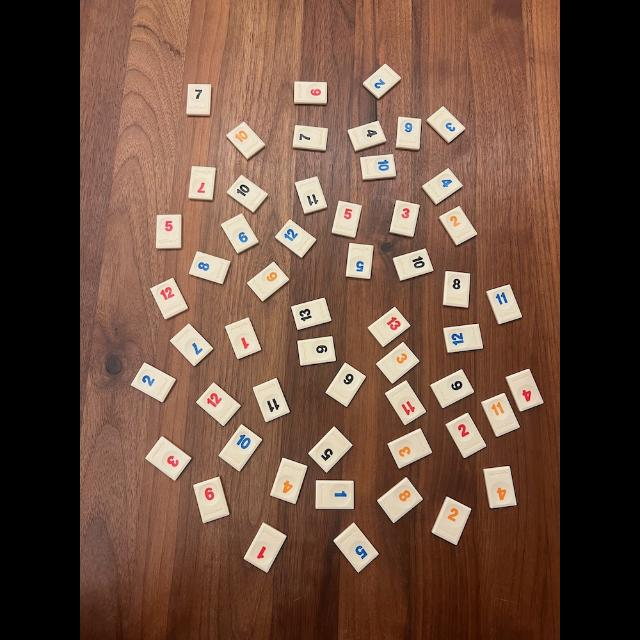black_10: (228, 175, 268, 212), (394, 249, 434, 281)
black_11: (252, 378, 290, 422), (295, 176, 328, 214)
black_13: (291, 298, 331, 330)
black_4: (348, 121, 386, 151)
black_5: (309, 426, 352, 472)
black_6: (298, 336, 336, 366)
black_7: (294, 125, 327, 151), (186, 84, 211, 116)
black_8: (443, 271, 469, 307)
black_9: (326, 362, 366, 406), (430, 369, 474, 408)
blue_1: (316, 481, 354, 509)
blue_10: (219, 424, 262, 471), (361, 154, 396, 180)
blue_11: (486, 285, 522, 324)
blue_12: (275, 220, 316, 258), (444, 324, 484, 352)
blue_2: (132, 362, 176, 402), (362, 64, 401, 99)
blue_3: (426, 106, 465, 141)
blue_4: (422, 169, 462, 204)
blue_5: (335, 522, 379, 572), (346, 244, 374, 279)
blue_7: (170, 324, 212, 366)
blue_8: (189, 251, 230, 284)
blue_9: (221, 214, 259, 254), (396, 116, 421, 150)
orange_10: (226, 121, 265, 159)
orange_11: (482, 392, 520, 436)
orange_2: (431, 496, 471, 545), (439, 206, 476, 245)
orange_3: (378, 342, 420, 384), (388, 429, 432, 469)
orange_4: (270, 458, 308, 504), (484, 467, 516, 508)
orange_8: (378, 478, 422, 522)
orange_9: (248, 262, 289, 301)
red_1: (244, 522, 286, 572), (225, 318, 261, 359)
red_11: (386, 380, 426, 425)
red_12: (196, 382, 240, 426), (150, 278, 188, 319)
red_13: (368, 308, 410, 346)
red_2: (446, 412, 486, 458)
red_3: (145, 436, 191, 480), (391, 200, 420, 238)
red_4: (505, 369, 544, 411)
red_5: (331, 201, 361, 238), (156, 215, 181, 249)
red_6: (194, 476, 230, 524)
red_7: (189, 166, 216, 201)
red_9: (296, 81, 327, 105)
